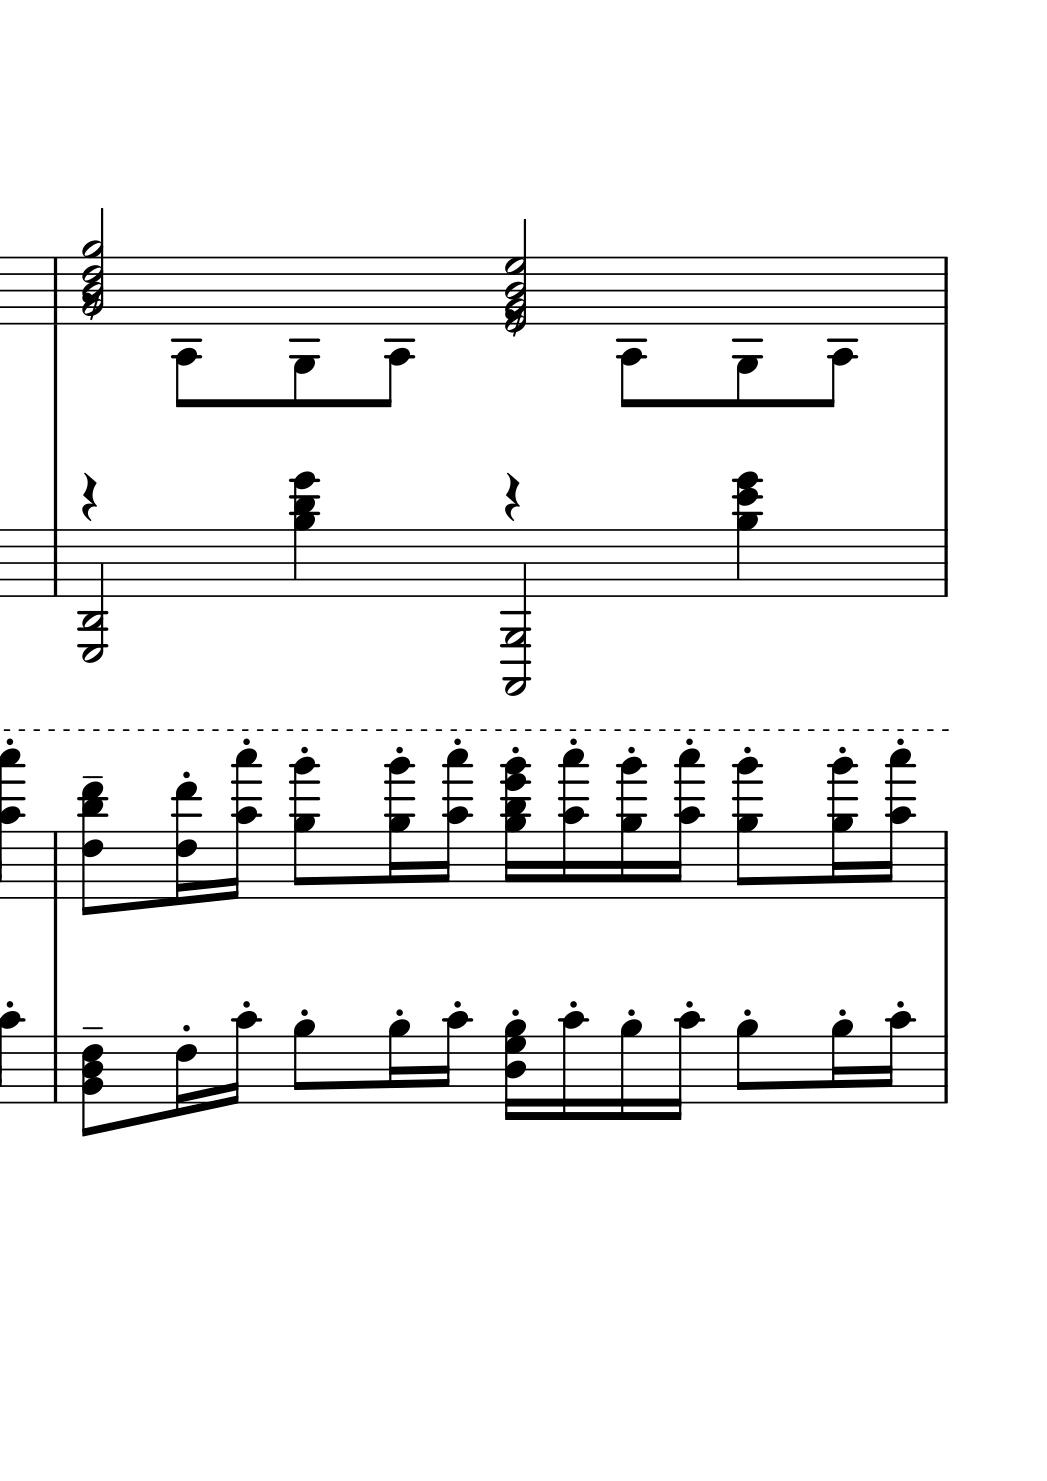16_10: (666, 1010, 703, 1123), (224, 1010, 259, 1109), (879, 1010, 916, 1106), (557, 1008, 587, 1125), (437, 1010, 468, 1110)
16_10_17: (223, 748, 262, 901), (669, 748, 705, 901), (437, 748, 474, 900), (882, 748, 918, 897), (557, 747, 588, 900)
16_4th: (501, 754, 535, 900), (500, 1016, 530, 1120)
16_6: (173, 1035, 198, 1118)
16_6_13: (171, 778, 202, 905)
16_9: (618, 1018, 642, 1123), (829, 1019, 854, 1106), (386, 1018, 410, 1106)
16_9_16: (383, 756, 417, 897), (615, 755, 647, 899), (826, 756, 856, 900)
2_-7_-3: (80, 527, 108, 665)
2_4th: (502, 218, 529, 338), (80, 205, 107, 329)
4_th: (288, 468, 320, 595), (731, 468, 761, 598)
8_-4: (378, 255, 417, 408), (822, 254, 856, 408), (169, 256, 203, 408), (616, 255, 648, 410)
8_-5: (732, 254, 763, 408), (291, 255, 321, 409)
8_9: (291, 1018, 316, 1107), (734, 1018, 759, 1107)
8_9_16: (732, 755, 765, 902), (289, 756, 321, 899)
8_th: (75, 778, 109, 918), (80, 1035, 104, 1142)
Rests4: (501, 470, 523, 522), (79, 470, 97, 522)
Single_barline: (46, 529, 63, 596), (46, 832, 63, 899), (937, 831, 953, 899), (46, 1035, 62, 1103), (937, 1036, 953, 1103), (46, 258, 62, 324), (937, 258, 953, 324), (937, 530, 953, 596)
